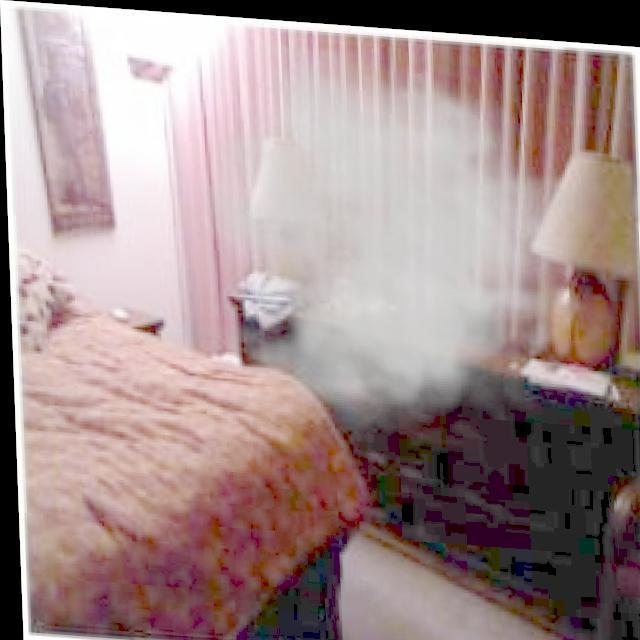Smoke: (202, 30, 595, 434)
